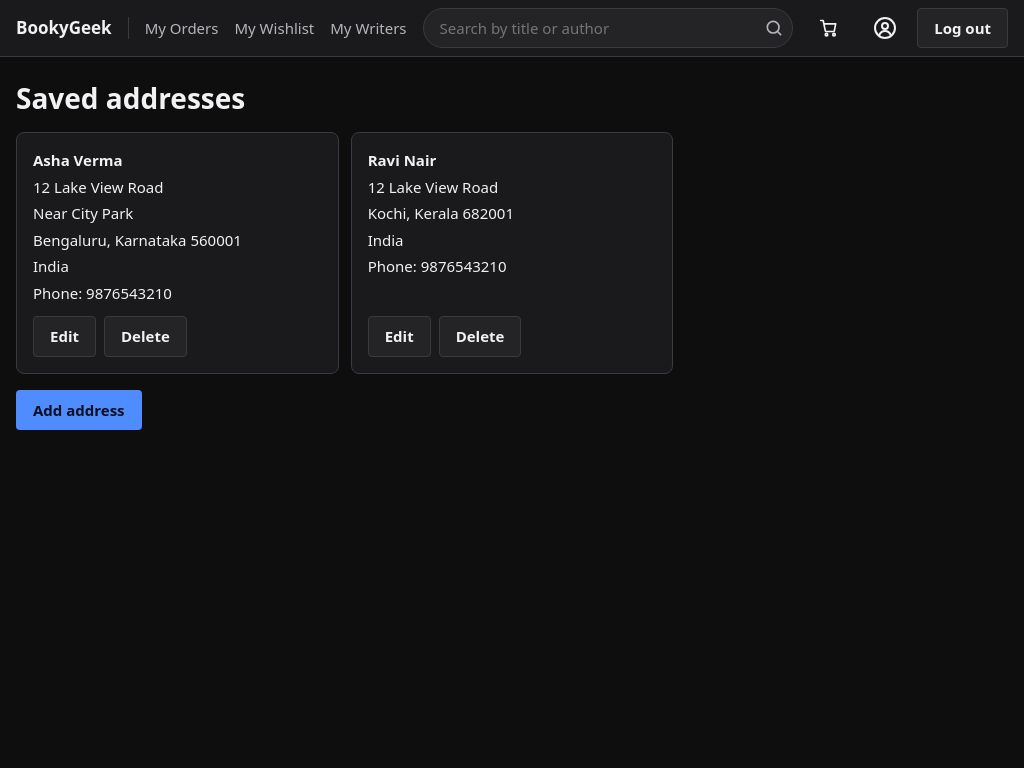
Test case: AddressesPage › asks before deleting, deletes the address and reloads the list
What coordinates should you click on to do the following:
click the button "Delete" below "Asha Verma"
I would click on:
 (145, 336)
Its box is [104,316,187,356].
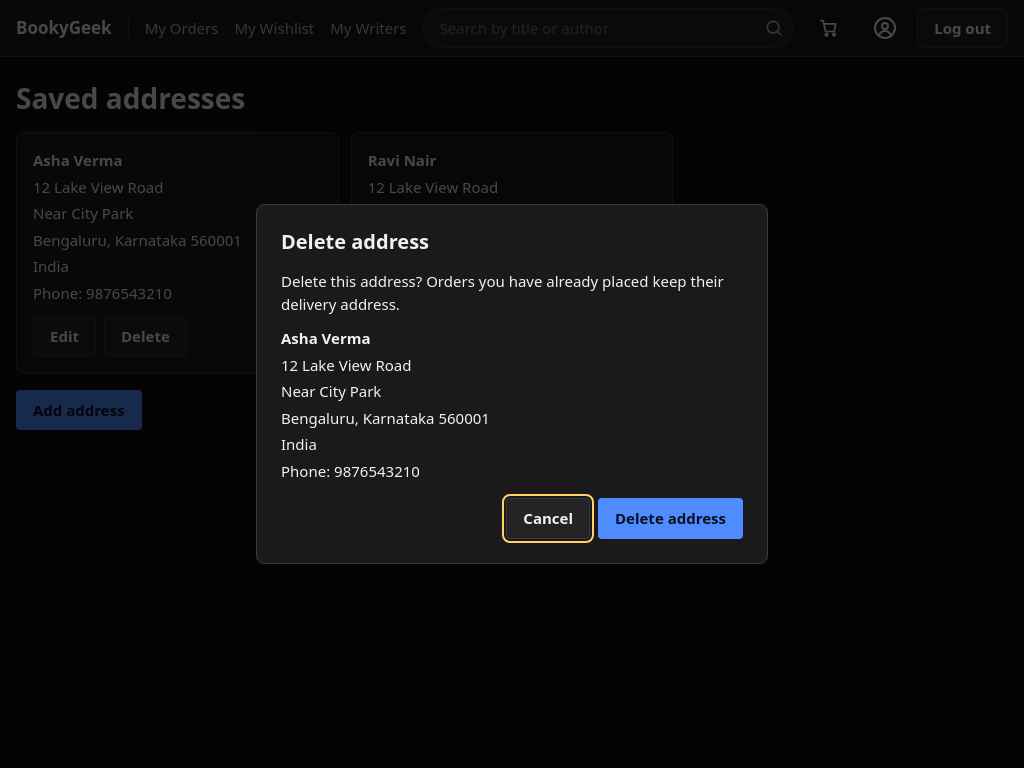
expect the text "Orders you have already placed keep their delivery address" is shown: met, box [281,271,724,314]
What coordinates should you click on to do the following:
click the button "Delete address"
I would click on:
 (670, 519)
Its box is [598,498,743,539].
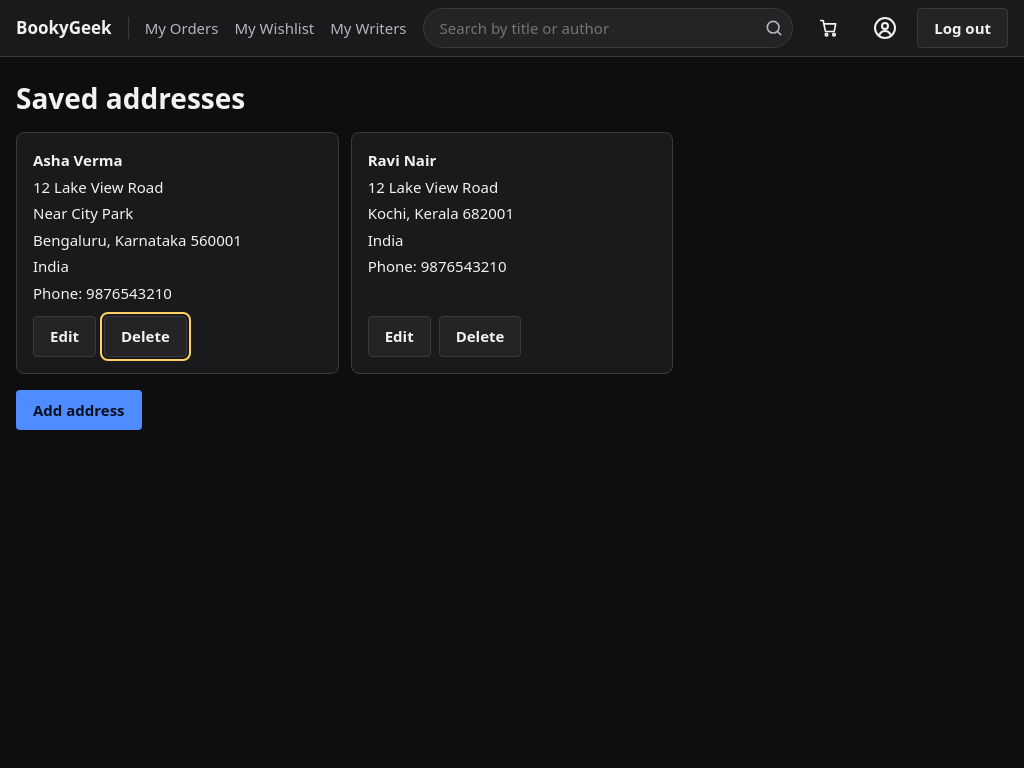
expect the dialog is gone: met
